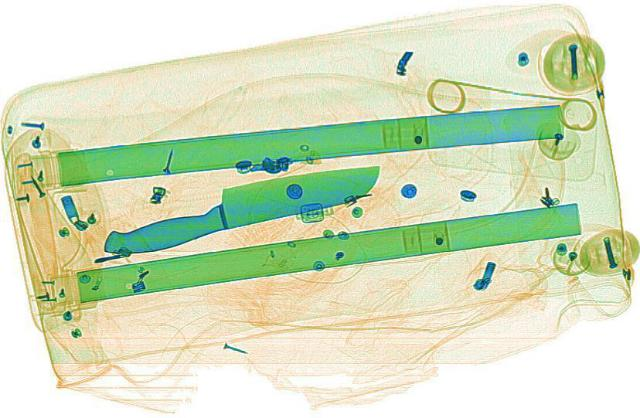Knife: (82, 156, 398, 258)
